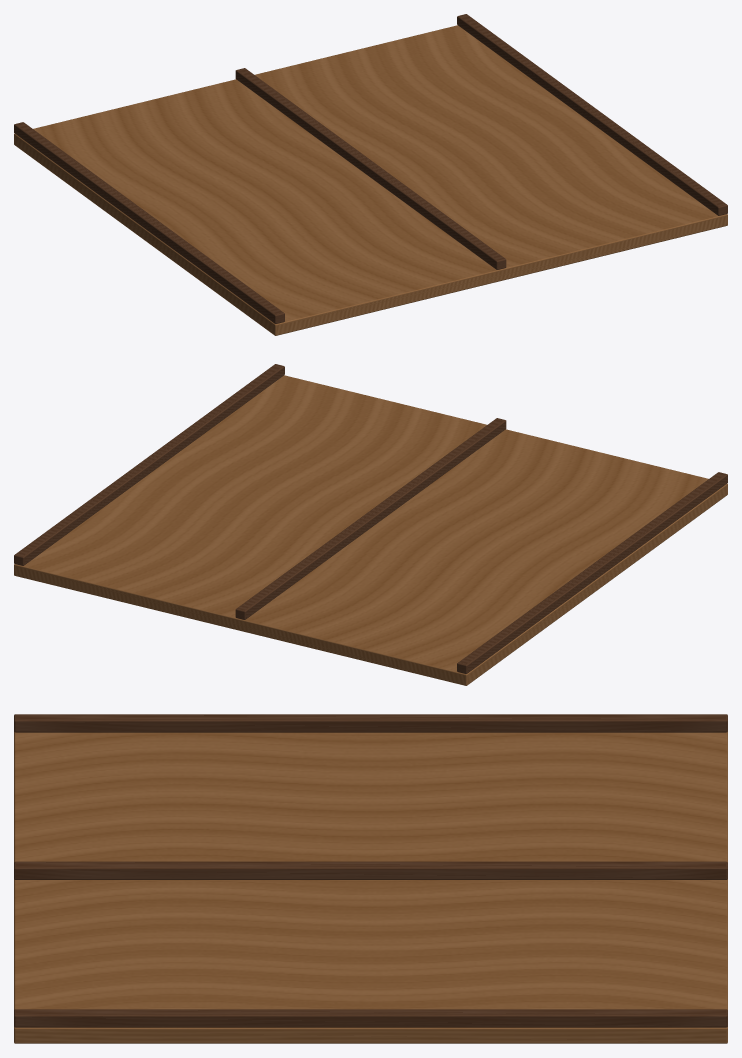
The model's file is ceiling.glb.
The picture shows the model from 3 angles, top to bottom: view 1: azimuth 30°, elevation 25°; view 2: azimuth 150°, elevation 25°; view 3: azimuth 270°, elevation 25°; orthographic projection. The views are drawn at different scales.
Visible parts, largest first — view 1: ceiling; view 2: ceiling; view 3: ceiling.
Part boxes in pixels (x1,y1,x2,y2): ceiling: (14, 14, 727, 335); ceiling: (14, 364, 727, 685); ceiling: (14, 714, 727, 1043).
Bounding box in the file's own units: 1.8 × 0.08 × 1.8.
2 materials, 2 textured.
